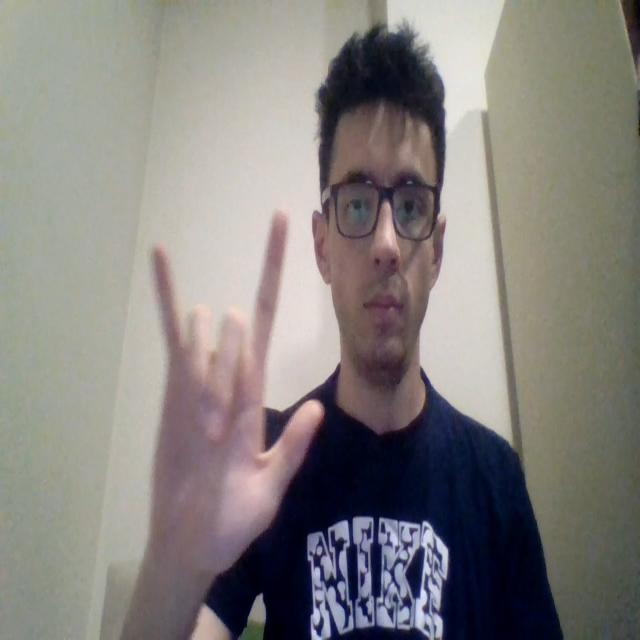iloveyou: (119, 208, 325, 637)
